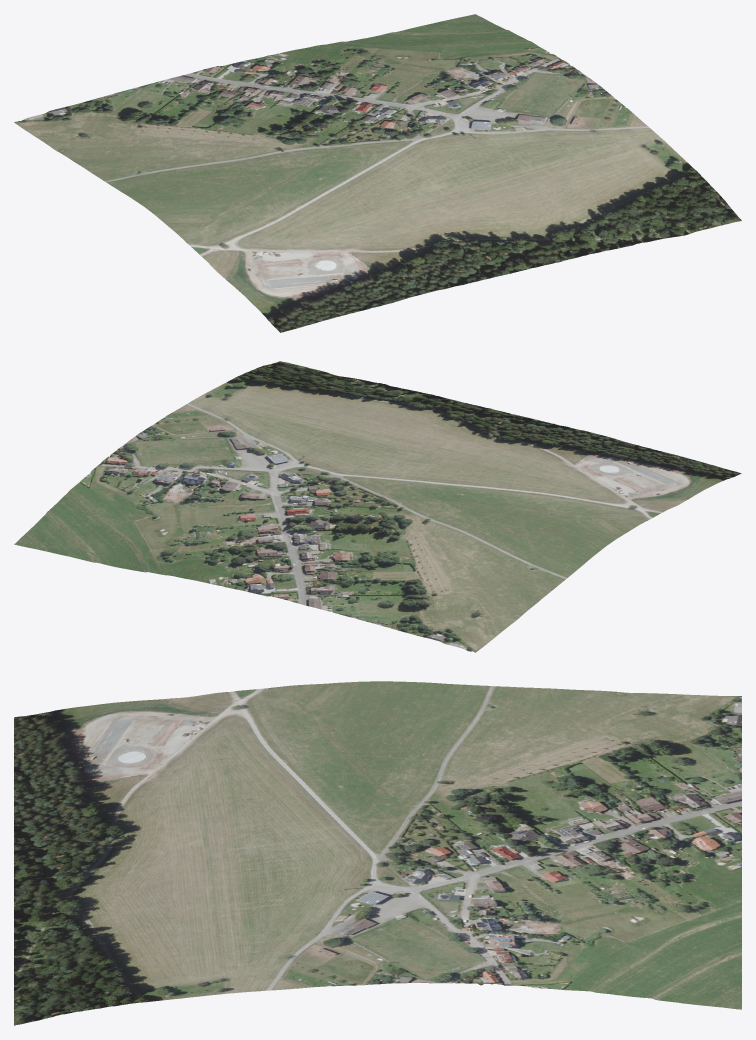
The model's file is terrain_0_1.glb.
3 renders of one model, top to bottom at view 1: azimuth 30°, elevation 25°; view 2: azimuth 150°, elevation 25°; view 3: azimuth 270°, elevation 25°, orthographic. The views are drawn at different scales.
Visible parts, largest first — view 1: geometry_0; view 2: geometry_0; view 3: geometry_0.
Part boxes in pixels (x1,y1,x2,y2): geometry_0: (14,14,741,332); geometry_0: (14,361,741,652); geometry_0: (14,681,741,1025).
Bounding box in the file's own units: 499 × 35.64 × 499.
Materials: 1 (1 with a texture image).
